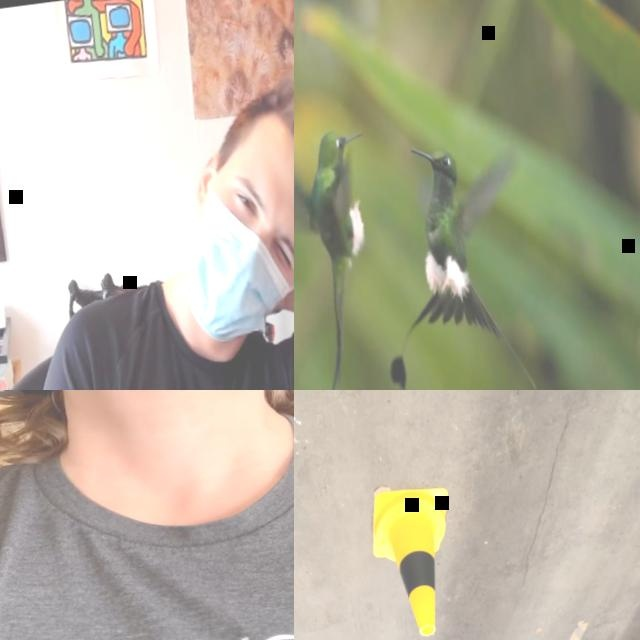Mask: (177, 187, 294, 343)
NO-Hardhat: (255, 72, 294, 239)
NO-Safety Vest: (0, 400, 294, 640), (63, 283, 294, 390)
Person: (0, 63, 294, 390), (0, 390, 294, 640)
Safety Cone: (361, 480, 465, 640)
